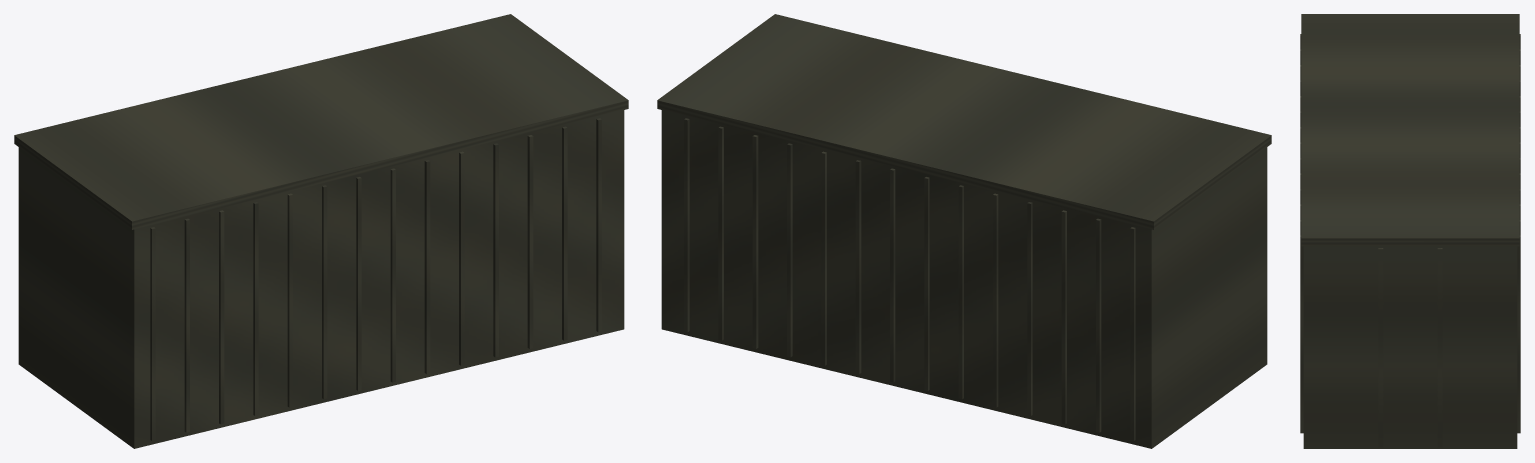
Rendered from prop_container_20ft.glb.
3 views of the same model, side by side, from view 1: azimuth 30°, elevation 25°; view 2: azimuth 150°, elevation 25°; view 3: azimuth 270°, elevation 25° (orthographic). The views are drawn at different scales.
Visible parts, largest first — view 1: prop_container_20ft; view 2: prop_container_20ft; view 3: prop_container_20ft.
Boxes of the visible parts, left/top/right/bottom form: prop_container_20ft: left=14, top=14, right=628, bottom=448; prop_container_20ft: left=657, top=14, right=1271, bottom=448; prop_container_20ft: left=1300, top=14, right=1520, bottom=448.
Bounding box in the file's own units: 6.1 × 2.68 × 2.53.
1 material, 1 textured.
